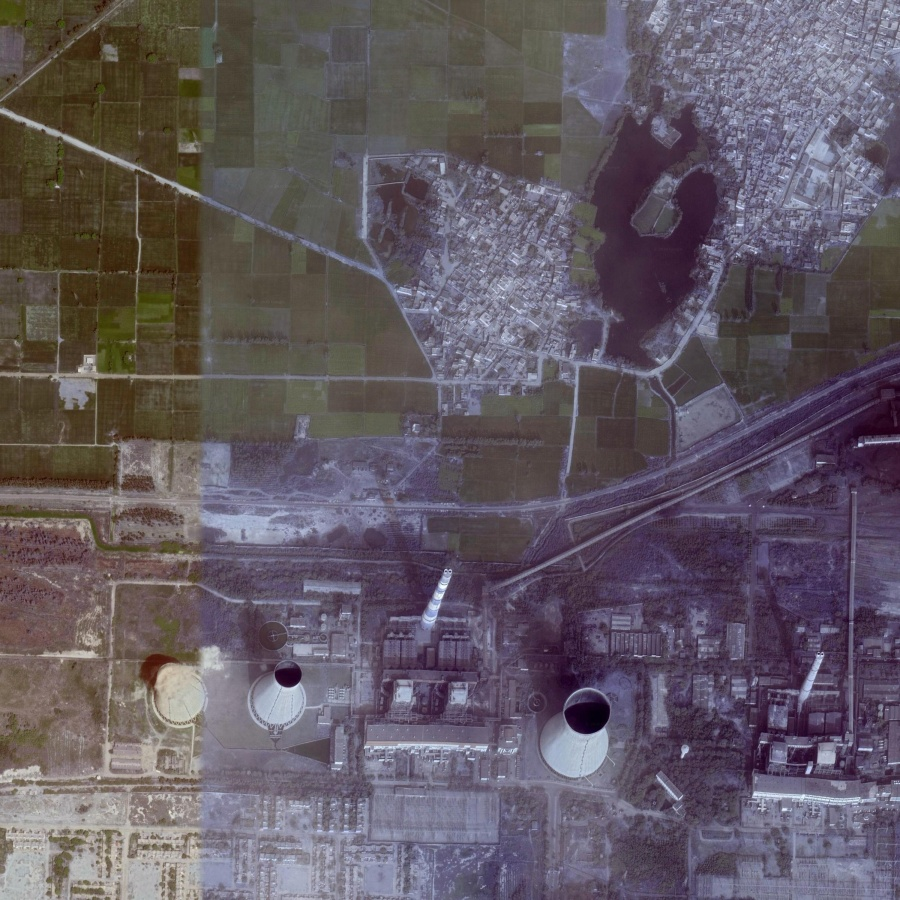PowerPlant: (143, 491, 619, 787)
